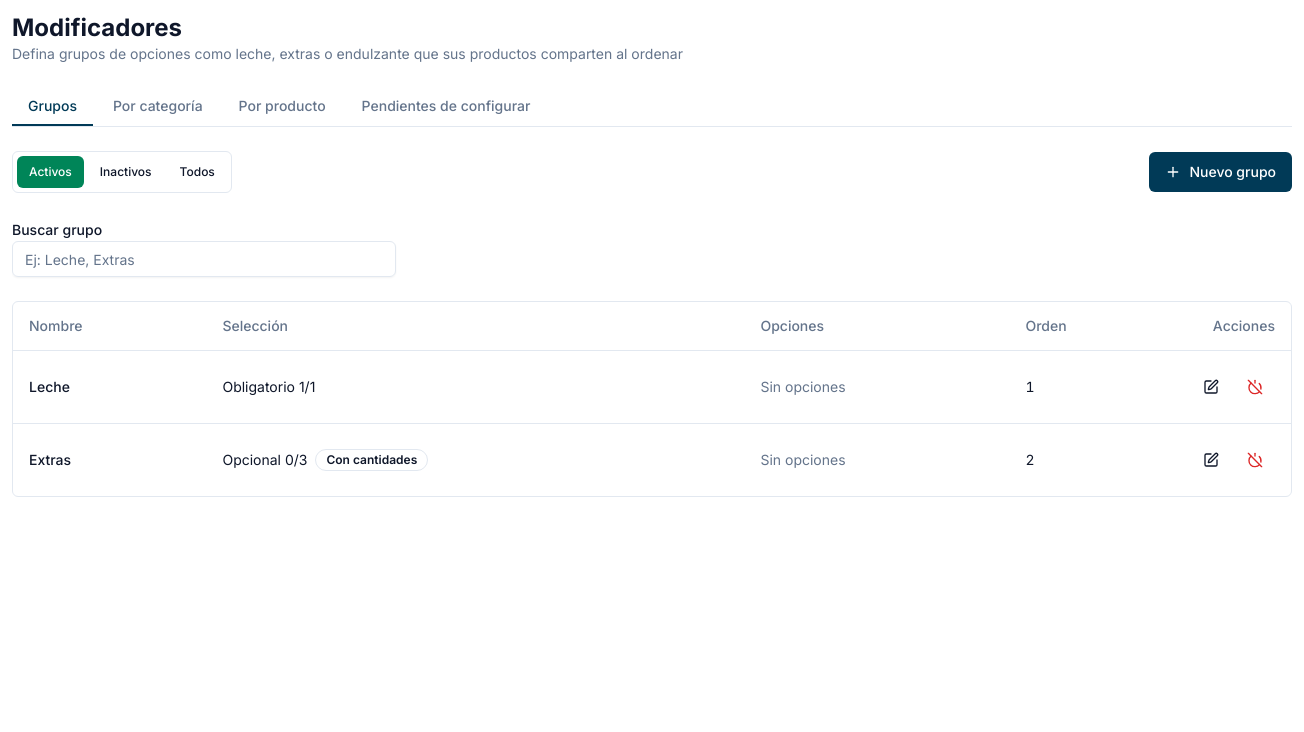
ModifiersPage tabs › Por categoría › queries the category groups when a category is selected and marks inactive ones
Click the tab "Por categoría".
click(158, 107)  # box [97,88,219,126]
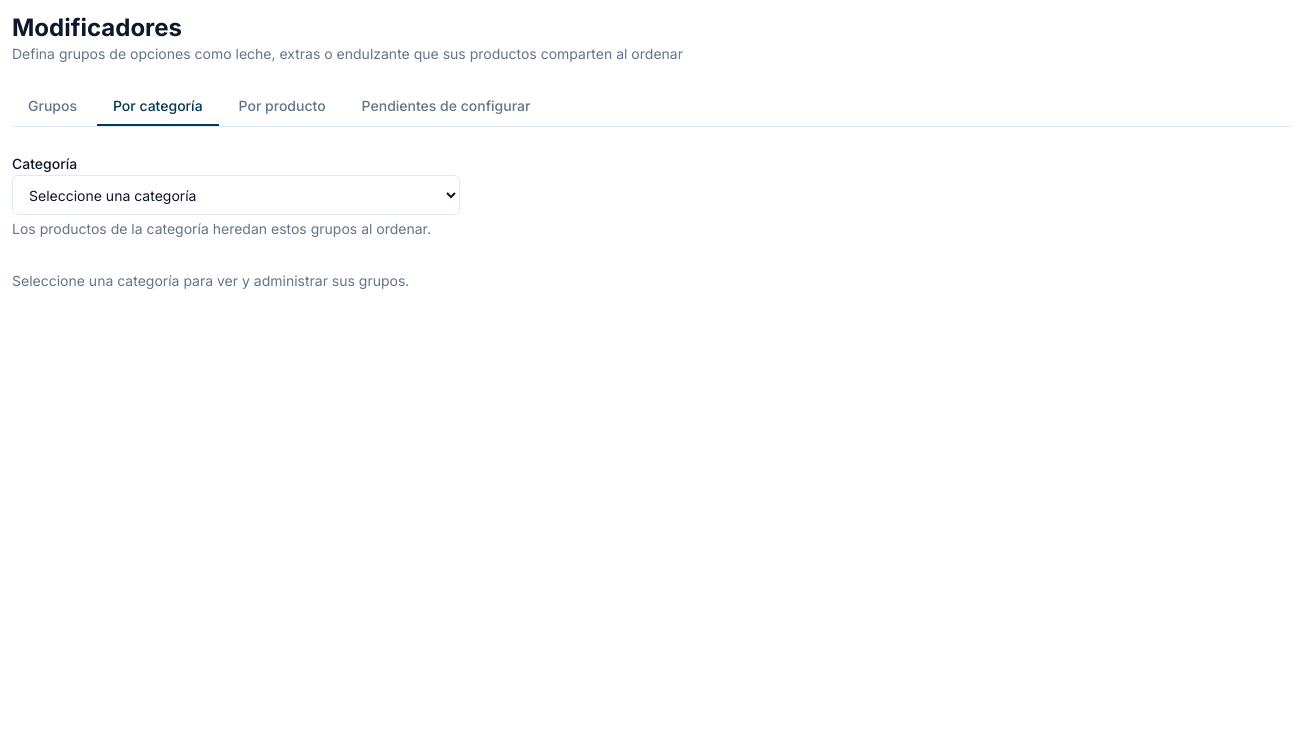
Select "Bebidas" in the dropdown labelled "Categoría" at {"x": 236, "y": 195}, box [12,175,460,215]
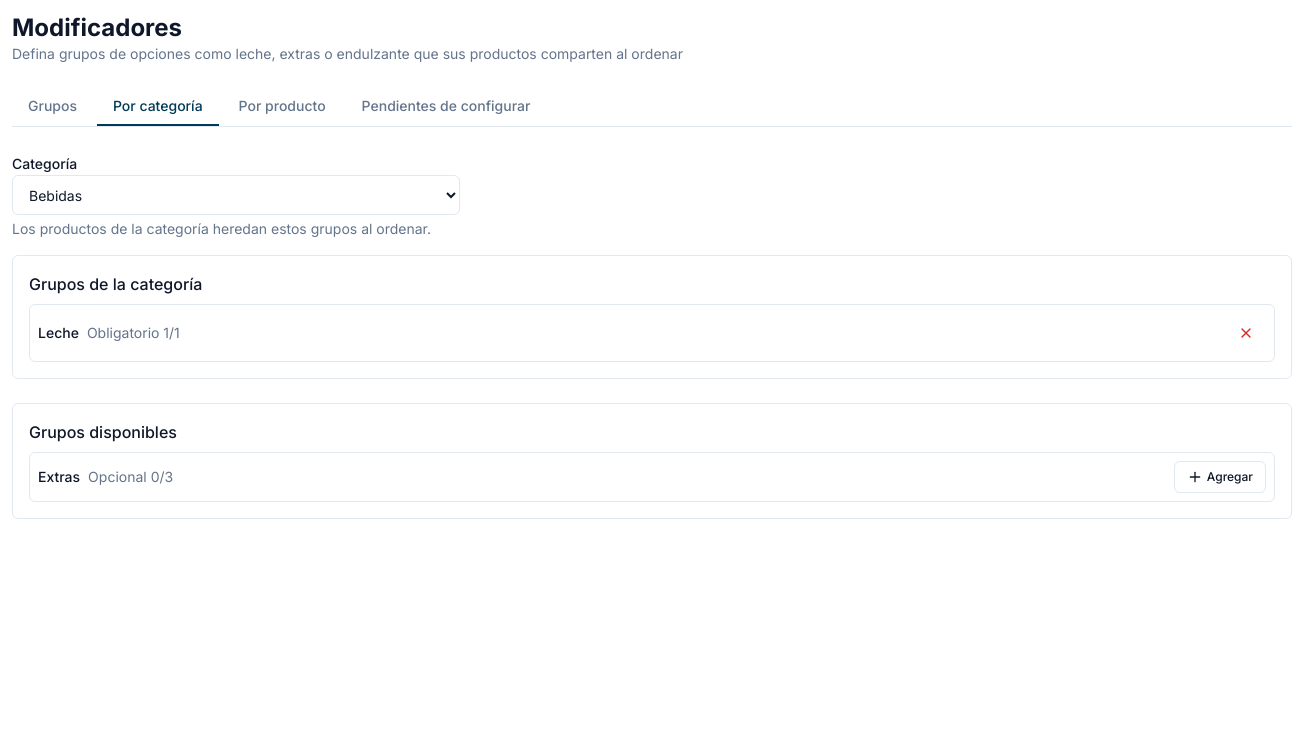
Expected: the text "Leche" is shown, [38,323,79,343]
